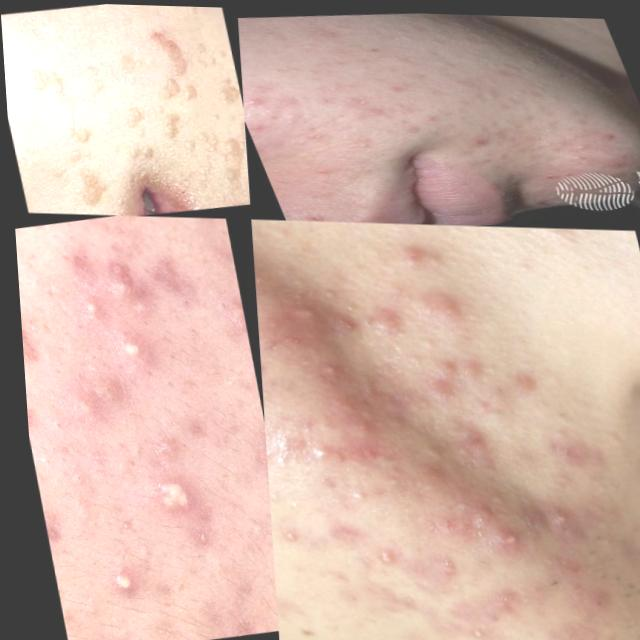8: (310, 380, 355, 415), (336, 412, 378, 443), (499, 81, 530, 96), (383, 81, 412, 93)
9: (94, 560, 148, 594), (303, 343, 350, 380), (476, 521, 526, 555), (527, 495, 577, 527), (299, 431, 341, 467), (355, 538, 400, 571), (264, 518, 310, 548), (336, 475, 373, 508), (437, 617, 490, 640), (75, 295, 109, 318), (118, 340, 146, 361)
blackheads: (252, 286, 358, 360), (407, 277, 481, 333), (145, 475, 195, 516), (98, 247, 134, 295), (562, 132, 605, 153)
dark spot: (64, 467, 84, 485), (39, 441, 58, 454), (38, 381, 54, 396)
